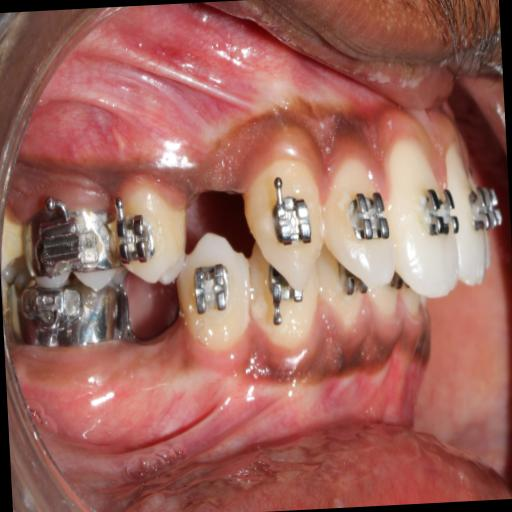correct_brace: (110, 185, 190, 292), (350, 186, 392, 250), (270, 194, 316, 252), (424, 179, 458, 254)
incorrect_brace: (318, 154, 402, 306), (114, 212, 156, 269)
